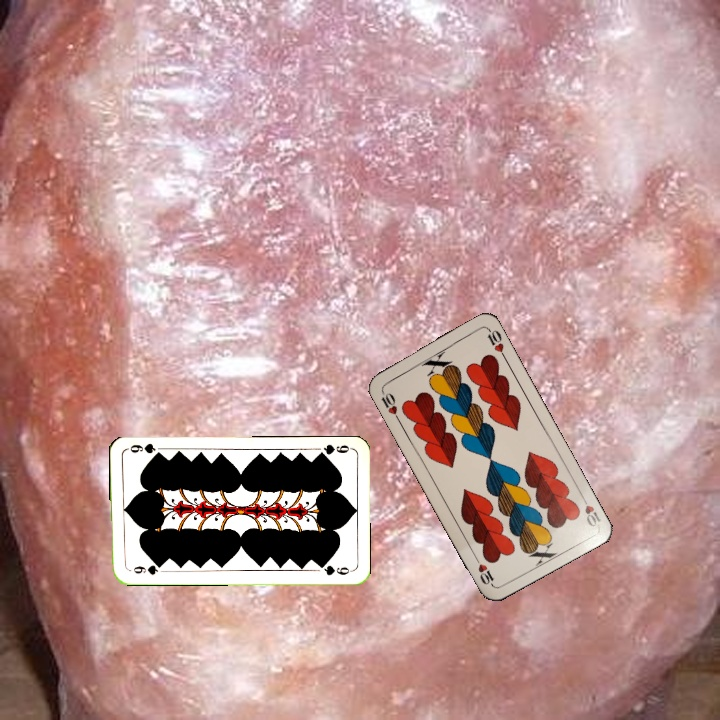G9: (313, 440, 353, 459), (129, 561, 165, 577)
H10: (576, 490, 604, 529), (377, 386, 402, 423)
